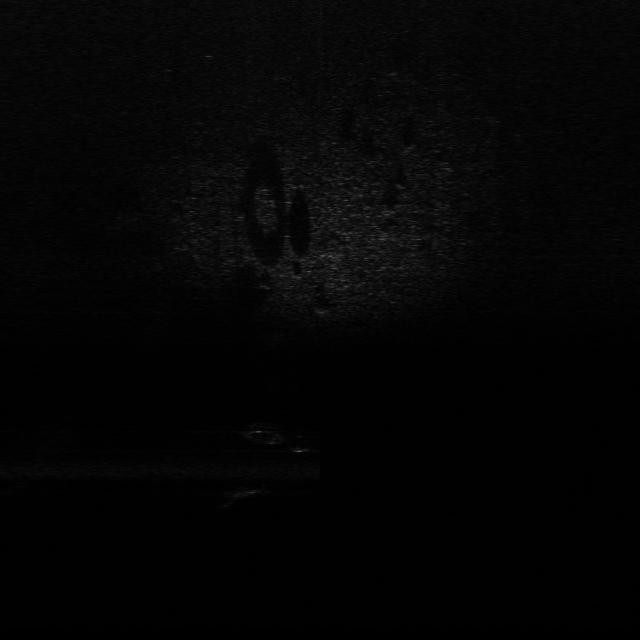ball: (284, 433, 314, 452)
square cage: (220, 483, 274, 502)
tyre: (237, 416, 286, 447)
